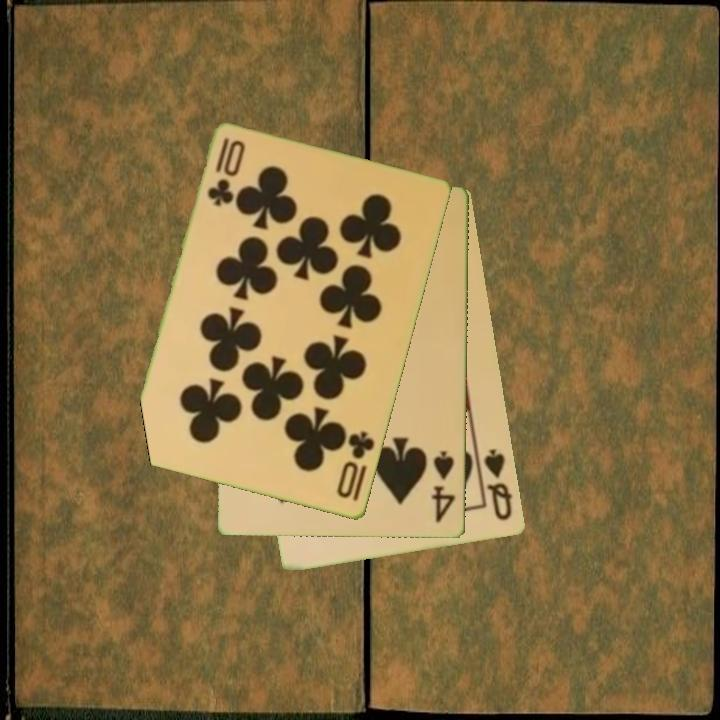10c: (333, 428, 378, 502), (204, 134, 234, 210)
4s: (428, 448, 458, 526)
Qs: (481, 445, 516, 524)
